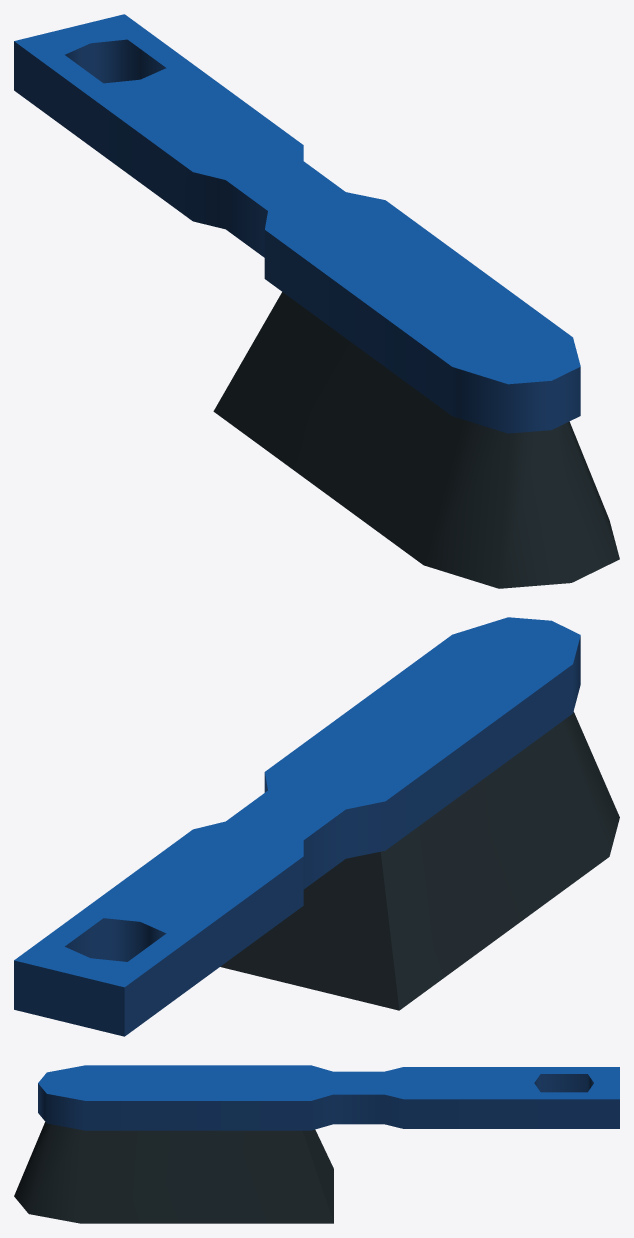
File: human-household-items-scrub-brush_v1.glb
The picture shows the model from 3 angles, top to bottom: view 1: azimuth 30°, elevation 25°; view 2: azimuth 150°, elevation 25°; view 3: azimuth 270°, elevation 25°; orthographic projection. The views are drawn at different scales.
Parts seen in each view (by area): view 1: Scrub Brush; view 2: Scrub Brush; view 3: Scrub Brush.
Part boxes in pixels (x1,y1,x2,y2): Scrub Brush: [14, 14, 619, 588]; Scrub Brush: [14, 617, 619, 1036]; Scrub Brush: [14, 1065, 619, 1223].
Bounding box in the file's own units: 0.0427 × 0.0412 × 0.2.
